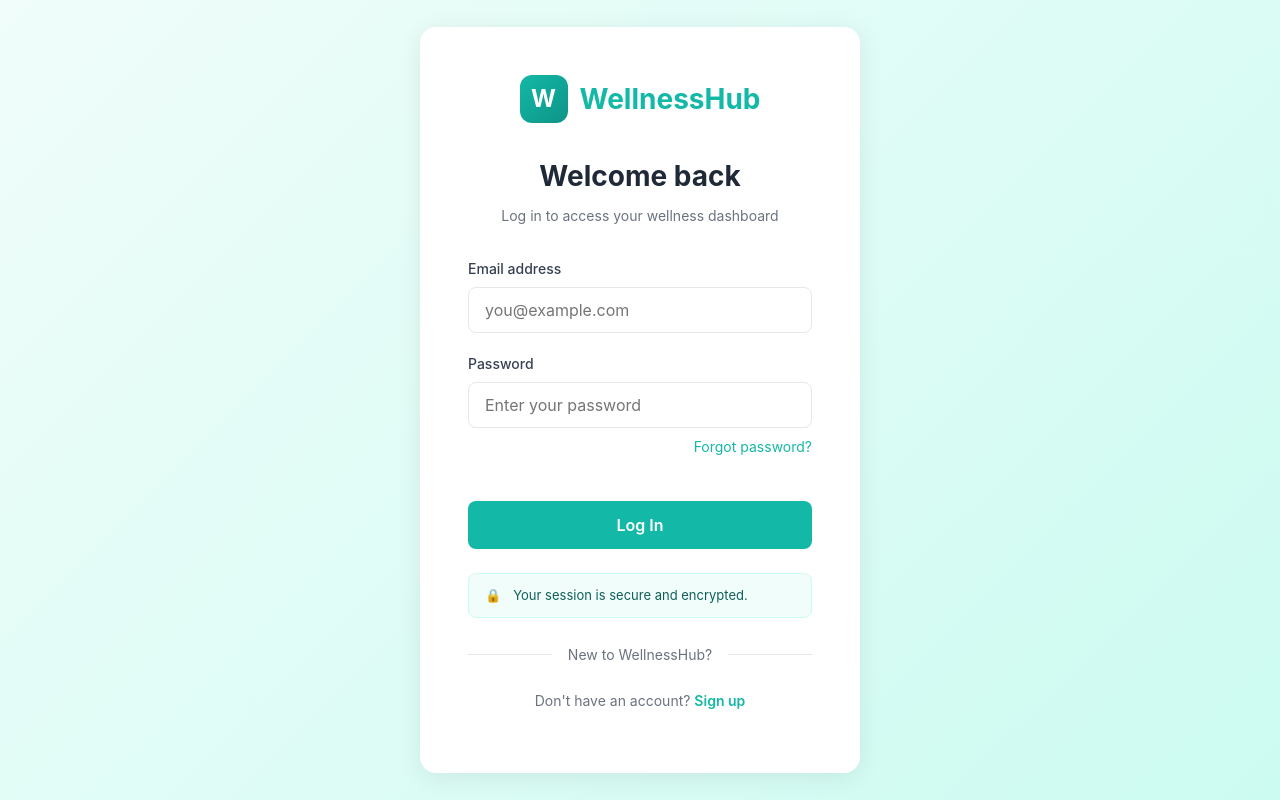
Test: empty-field validation › blocks submit and shows required error when email is empty
Type "secret123" into the password field labelled "Password" at (640, 405), box [468, 382, 812, 428]
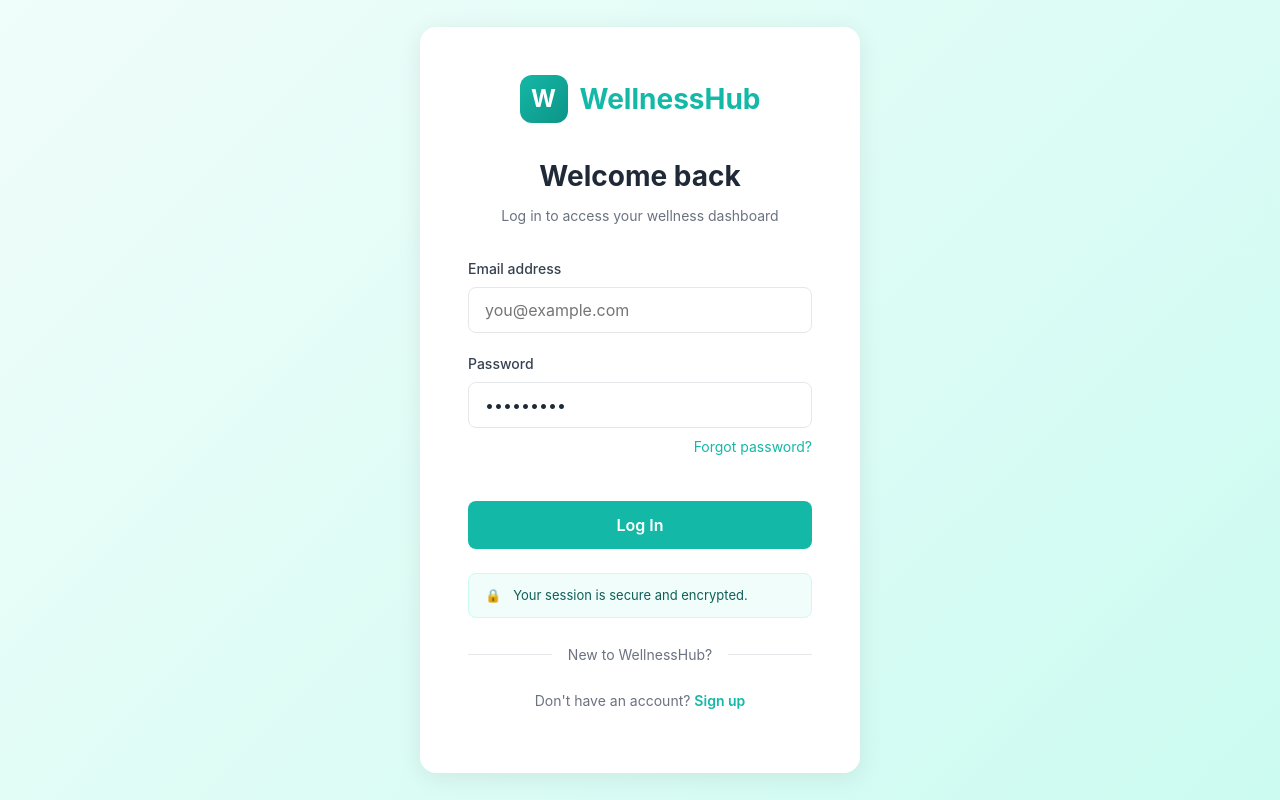
Submit the form "Email address Password Forgot password? Log In", box [468, 258, 812, 549]
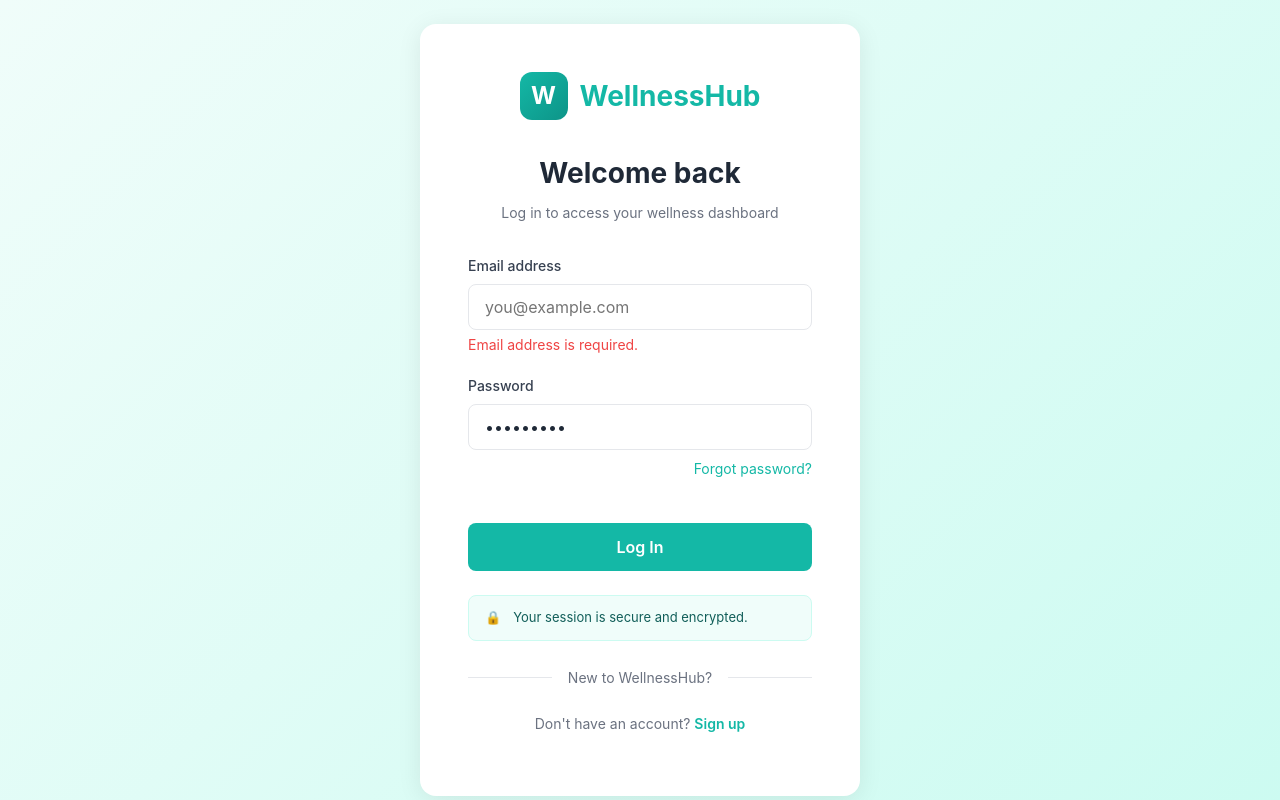
Expected: the text "Email address is required." is shown, [468, 336, 638, 353]
